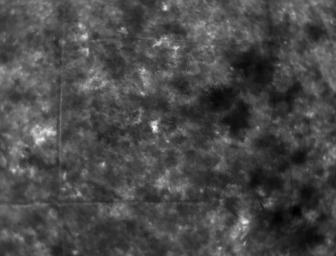landmine: (149, 117, 161, 134)
